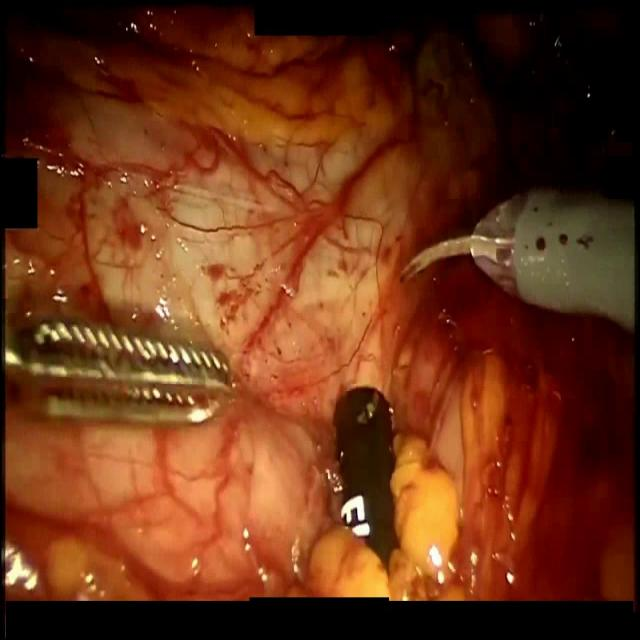surgical-area: (2, 0, 636, 600)
surgical-tool: (399, 184, 635, 336), (6, 313, 230, 427), (337, 385, 404, 599)
